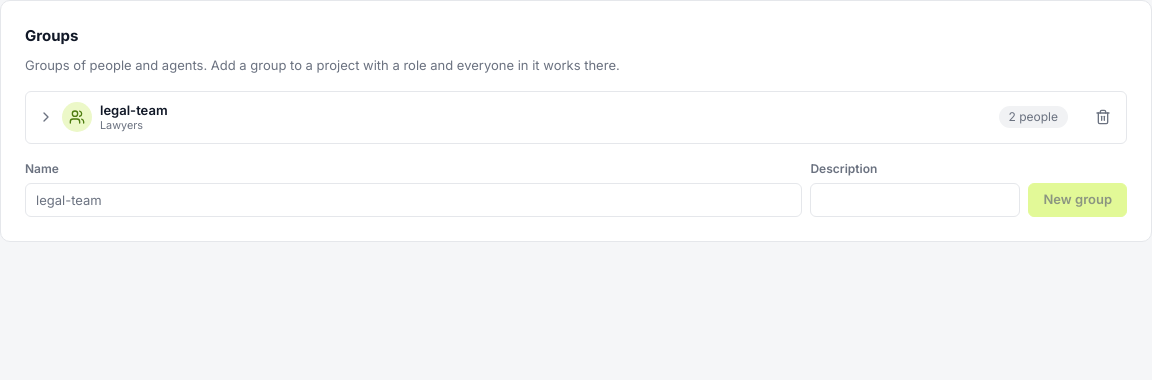
GroupsTab › opens a group to show its members
What coordinates should you click on to do the following:
click the button "legal-team Lawyers 2 people"
I would click on:
 (134, 110)
Its box is x1=26 y1=92 x2=1080 y2=143.
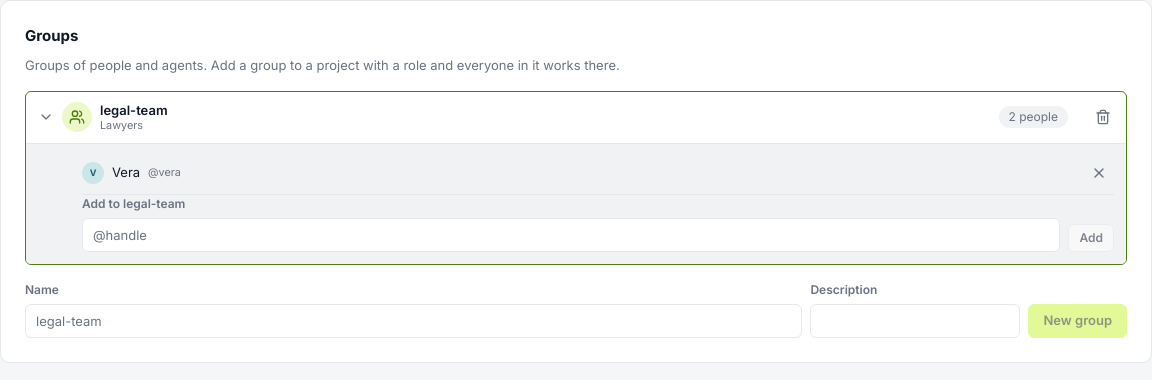
Check: the button "legal-team Lawyers 2 people" is expanded, box x1=26 y1=92 x2=1080 y2=143
Check: the text "Vera" is shown, box x1=112 y1=164 x2=140 y2=180
